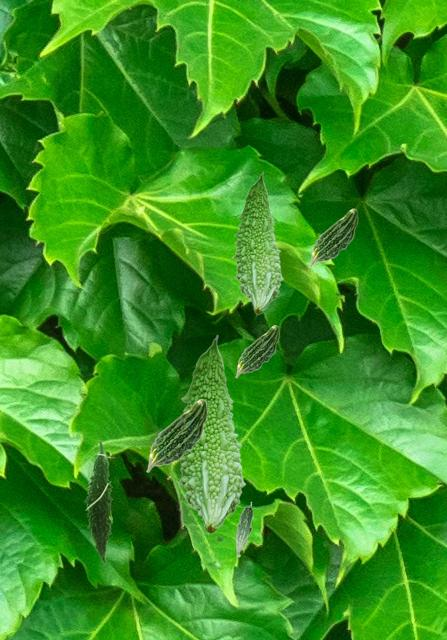ampalaya: (177, 334, 246, 534), (231, 171, 284, 314), (145, 398, 208, 473), (83, 439, 116, 564), (309, 208, 358, 267), (234, 324, 279, 378), (235, 501, 253, 557)
